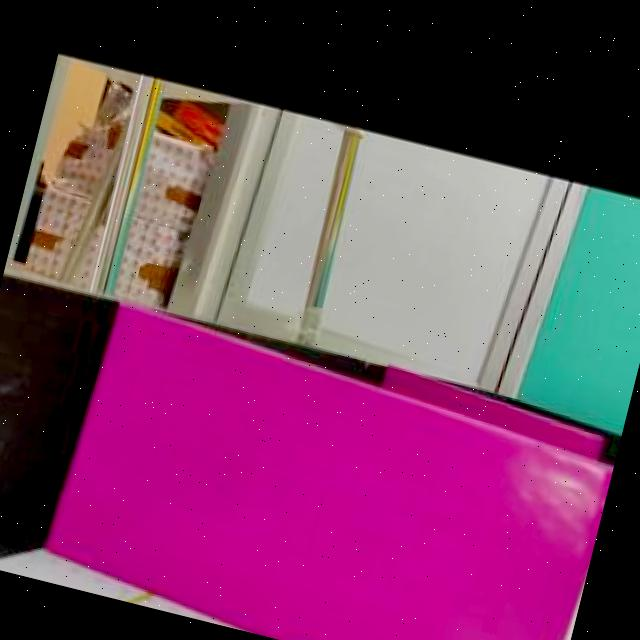xparking: (49, 307, 612, 640), (385, 365, 602, 454)
